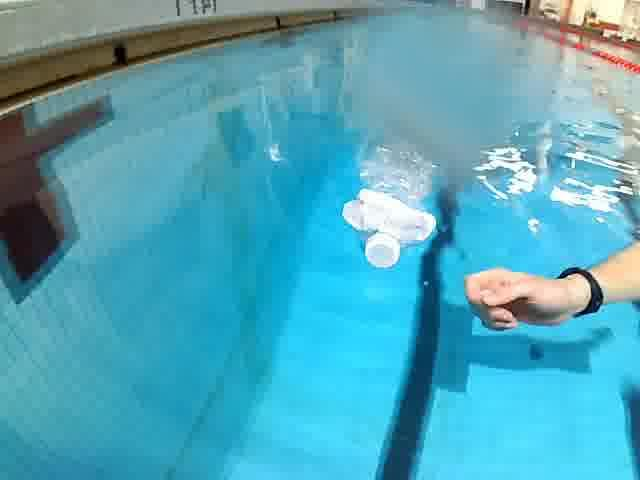Bottle: (345, 128, 438, 273)
